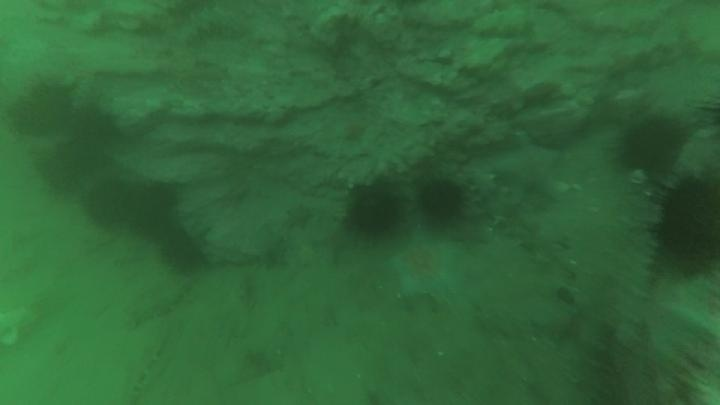echinus: (651, 171, 720, 276), (36, 125, 107, 196), (8, 75, 79, 141), (615, 113, 688, 177), (60, 99, 122, 162), (342, 181, 405, 242), (124, 180, 180, 236), (82, 177, 138, 231), (416, 175, 468, 226), (158, 223, 208, 274)
holothurian: (119, 324, 169, 405), (122, 280, 189, 329)
starfish: (384, 229, 467, 307), (490, 132, 568, 205), (308, 218, 358, 267)
